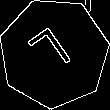L_SE: (27, 23, 81, 83)
